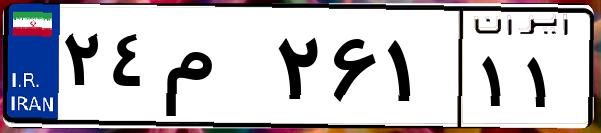1: (385, 28, 445, 110), (475, 38, 525, 113), (525, 38, 570, 115)
2: (270, 28, 330, 110), (57, 26, 110, 100)
4: (110, 28, 158, 98)
6: (330, 28, 385, 110)
م: (158, 20, 270, 120)
